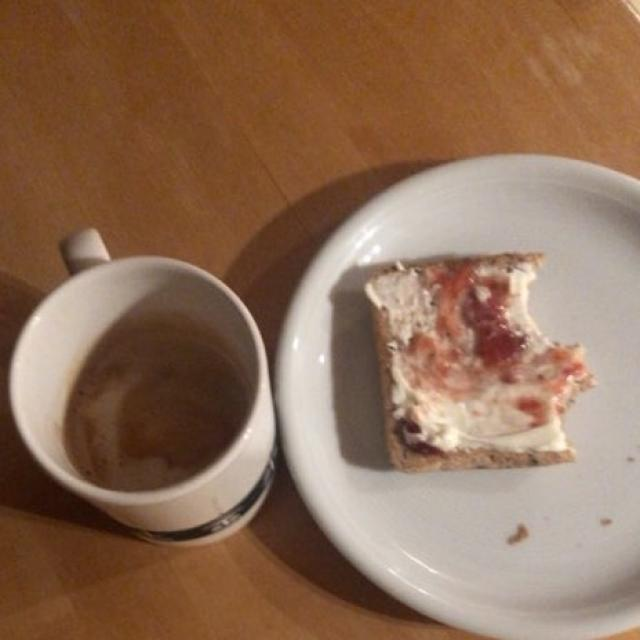bread: (372, 259, 588, 471)
coffee: (67, 311, 248, 486)
cream-cheese: (387, 264, 578, 450)
jam: (413, 272, 563, 427)
